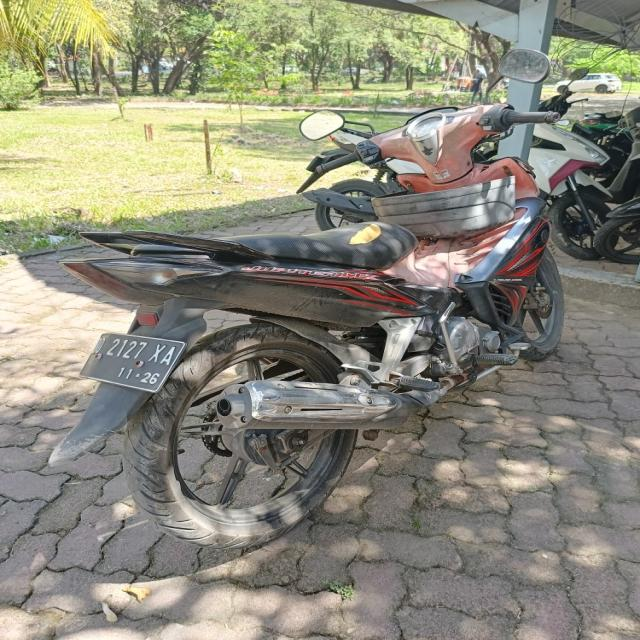plates: (83, 318, 177, 394)
